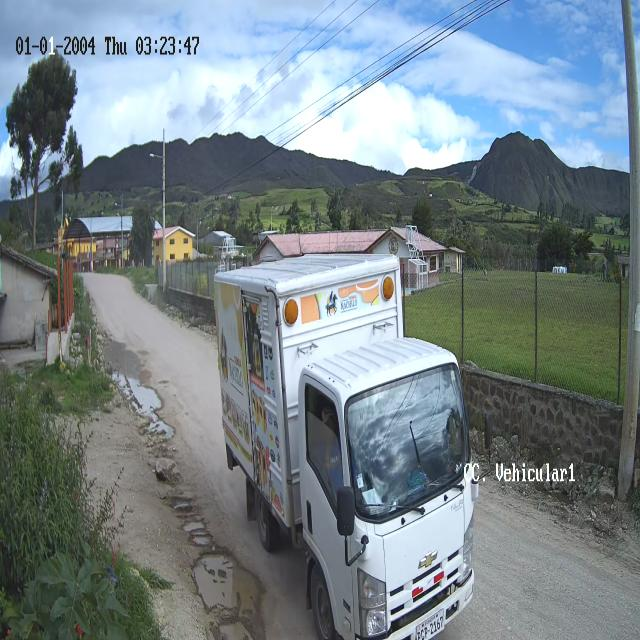TRUCK: (213, 255, 475, 640)
